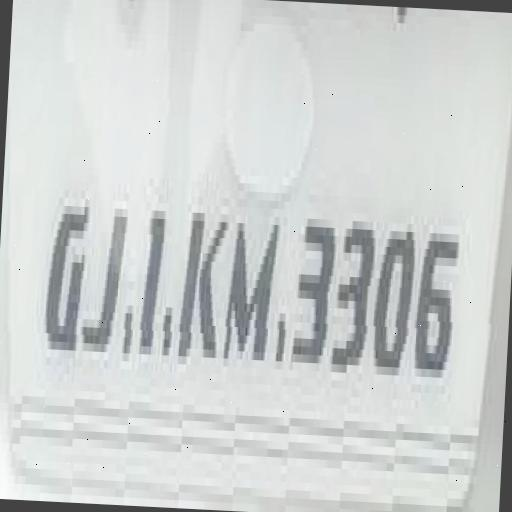number plate: (0, 0, 497, 491)
